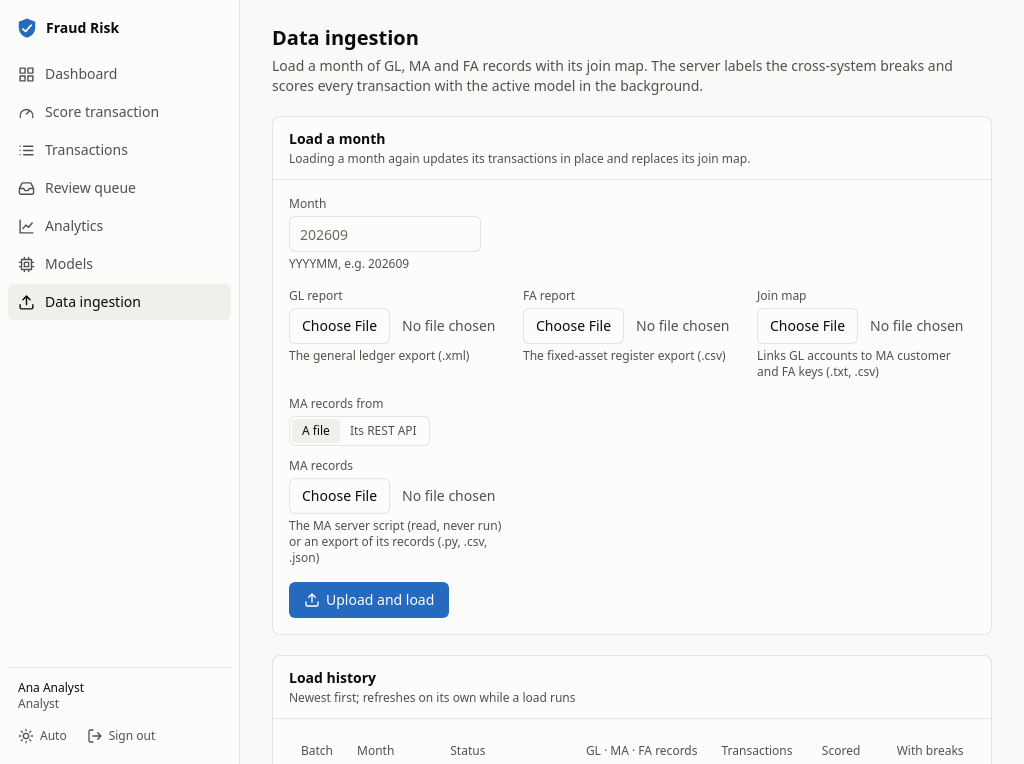
Test: checks the form before uploading
The image size is (1024, 764).
Click the button "Upload and load". click: point(369, 600)
box: [289,582,449,618]
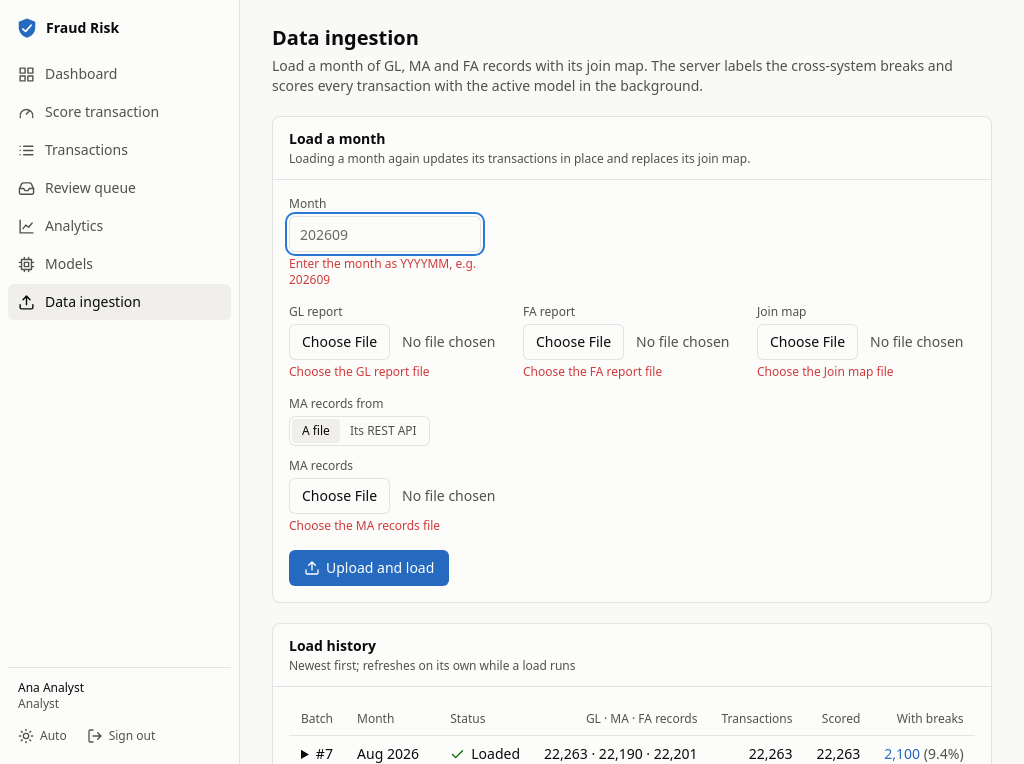
Now the text "Enter the month as YYYYMM, e.g. 202609" is shown, box [289,256,481,288]
Now the text "Choose the GL report file" is shown, box [289,363,430,380]
Now the text "Choose the MA records file" is shown, box [289,517,440,534]
